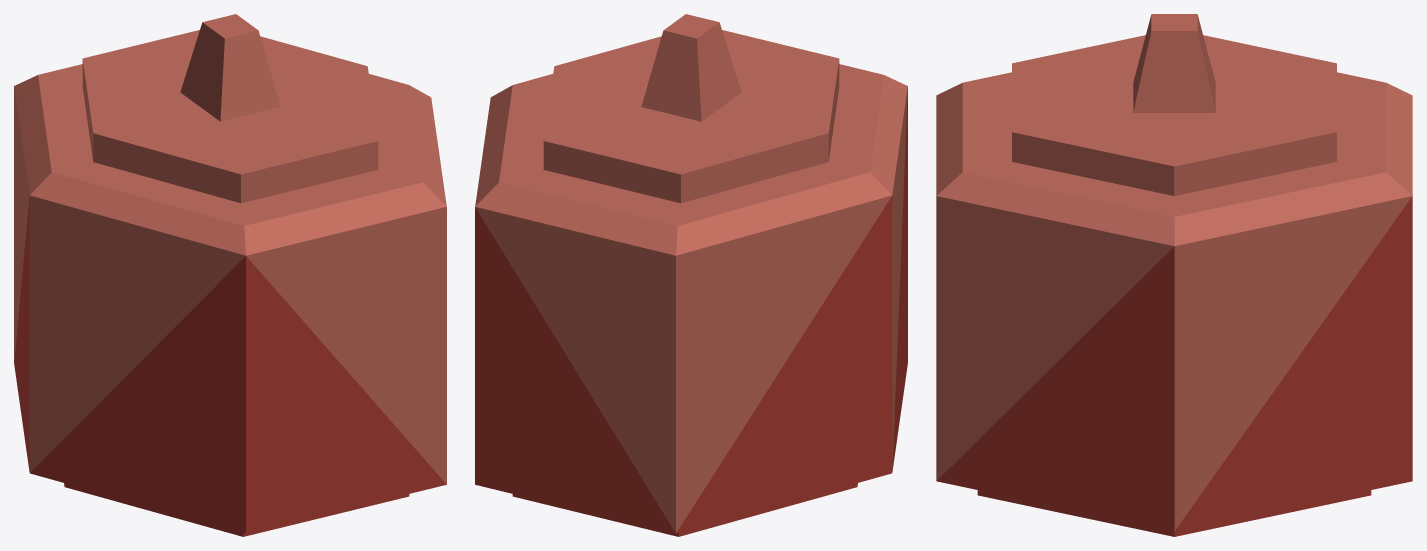
The model's file is bottle-ketchup.glb.
3 views of the same model, side by side, from view 1: azimuth 30°, elevation 25°; view 2: azimuth 150°, elevation 25°; view 3: azimuth 270°, elevation 25° (orthographic). The views are drawn at different scales.
Size of the model in its own units: 1 by 1 by 1.
